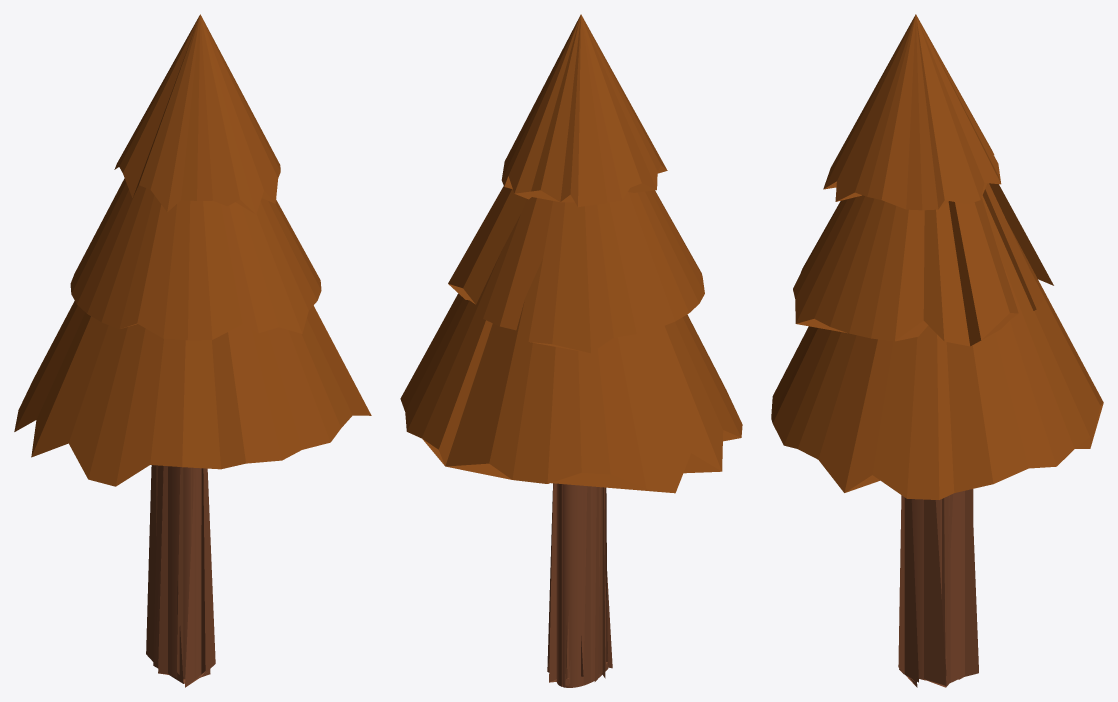
Rendered from cam_2.fbx.
3 views of the same model, side by side, from view 1: azimuth 30°, elevation 25°; view 2: azimuth 150°, elevation 25°; view 3: azimuth 270°, elevation 25° (orthographic).
Parts seen in each view (by area): view 1: Cone, Cylinder; view 2: Cone, Cylinder; view 3: Cone, Cylinder.
Part boxes in pixels (x1,y1,x2,y2): Cone: (14,14,371,486); Cylinder: (146,465,215,687); Cone: (400,14,742,493); Cylinder: (547,483,612,687); Cone: (771,14,1103,499); Cylinder: (898,489,978,687).
Size of the model in its own units: 216 by 443 by 200.
